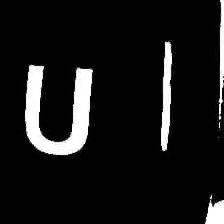LTR_U: (21, 57, 93, 158)
